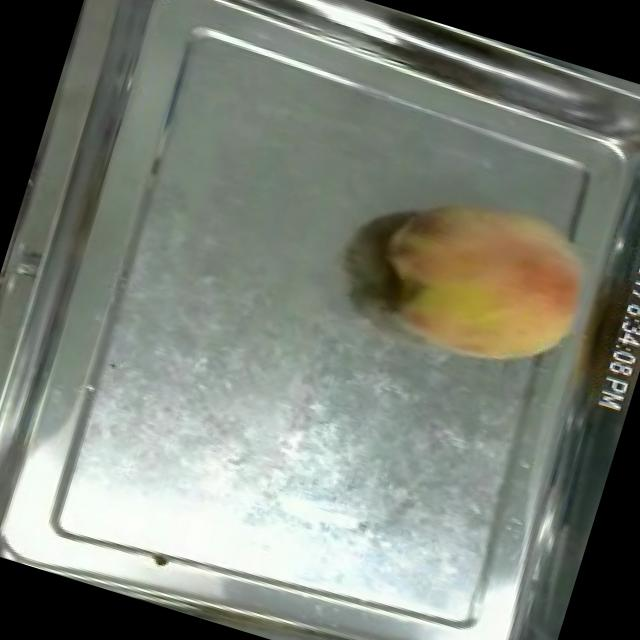Fruit: (350, 161, 616, 395)
